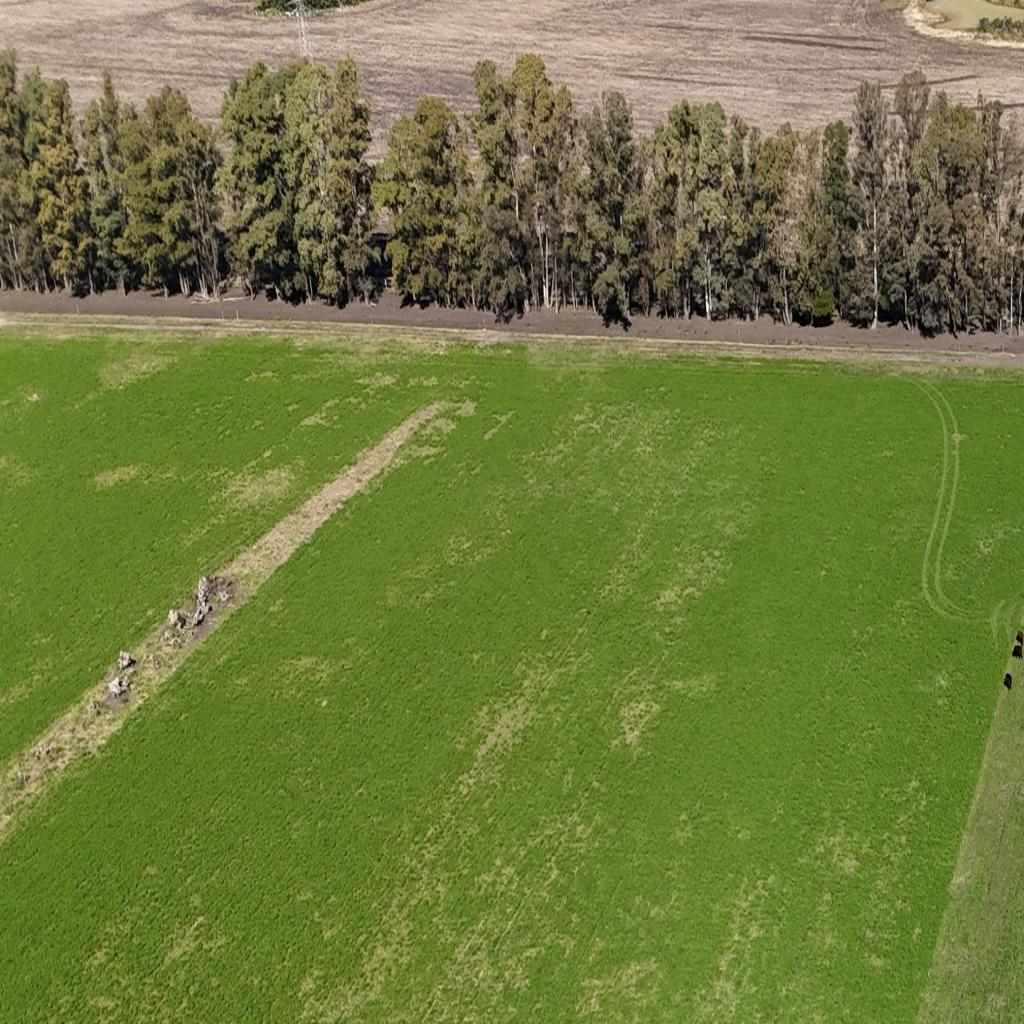cow: (1012, 644, 1023, 659), (1004, 672, 1012, 692), (1017, 630, 1024, 644)
